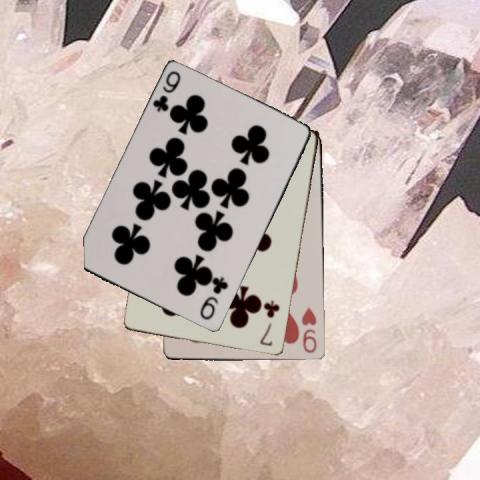7c: (257, 297, 282, 348)
9c: (197, 274, 230, 322), (150, 68, 183, 114)
9h: (299, 304, 318, 354)
